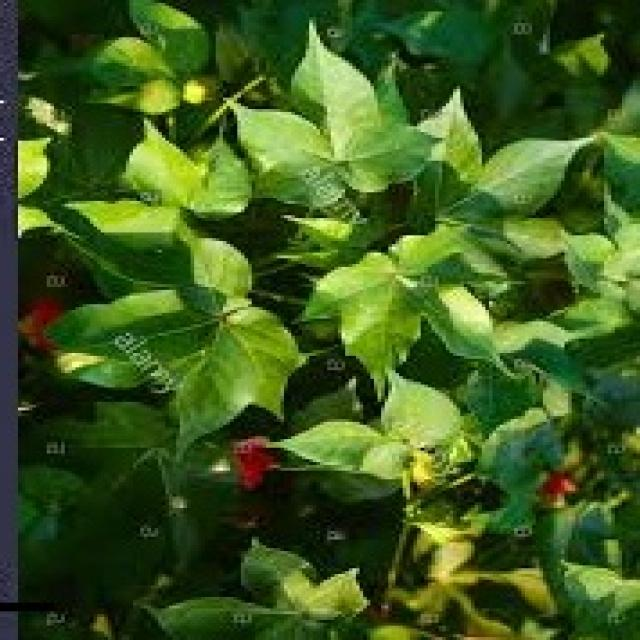Healthy Leaf: (22, 10, 634, 640)
